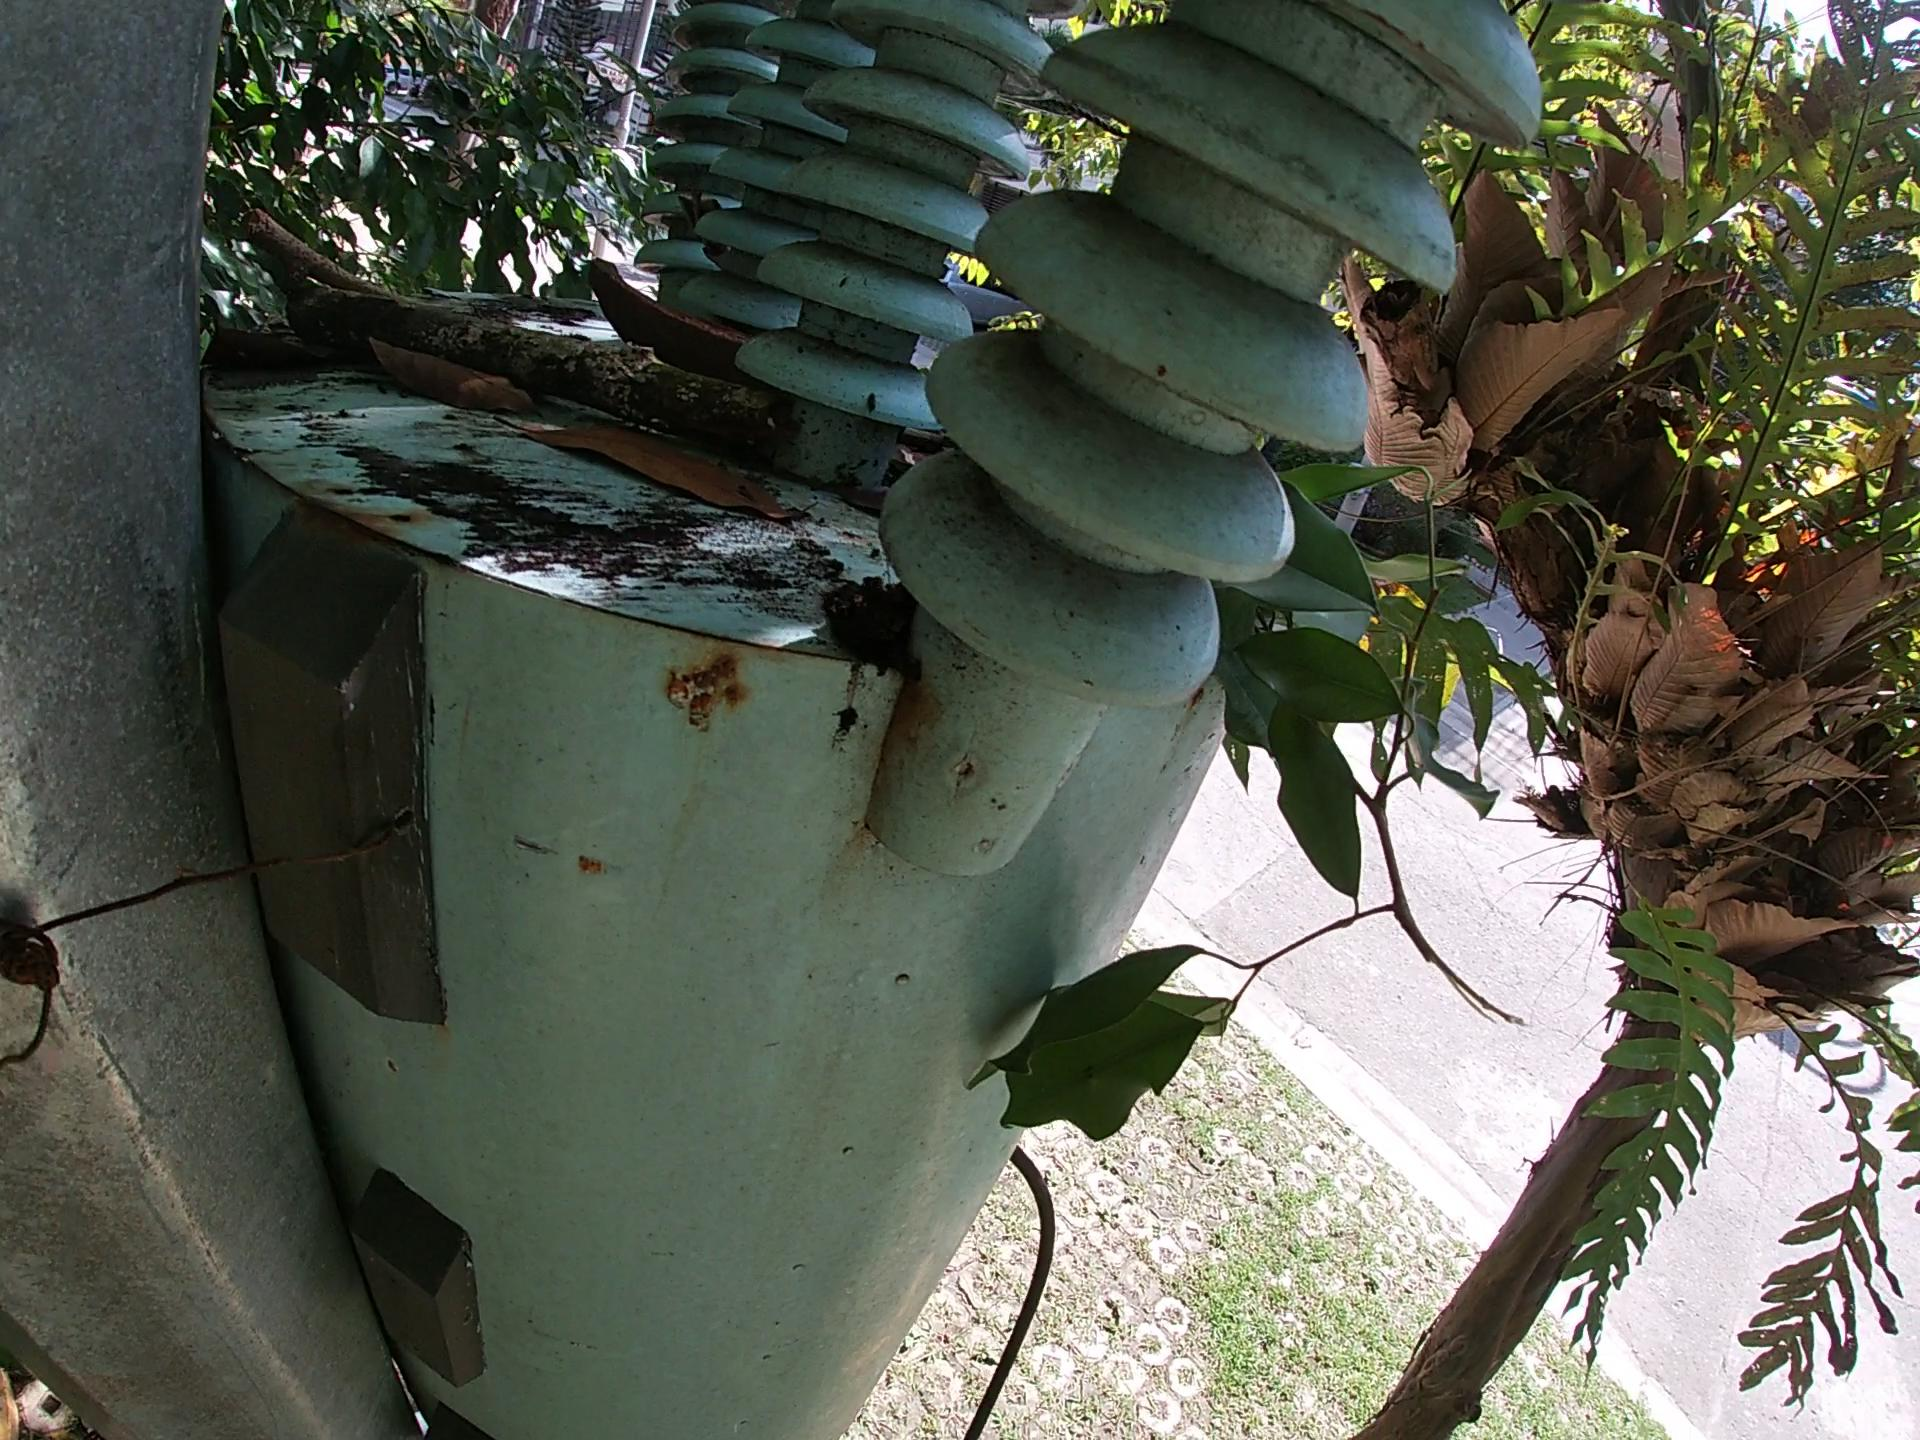branch with leaves: (958, 458, 1533, 1148)
leaf: (487, 404, 819, 529), (361, 330, 547, 421), (197, 318, 342, 383)
mahogany fruit: (573, 250, 744, 380)
tree branch: (277, 284, 801, 464), (236, 203, 395, 295)
